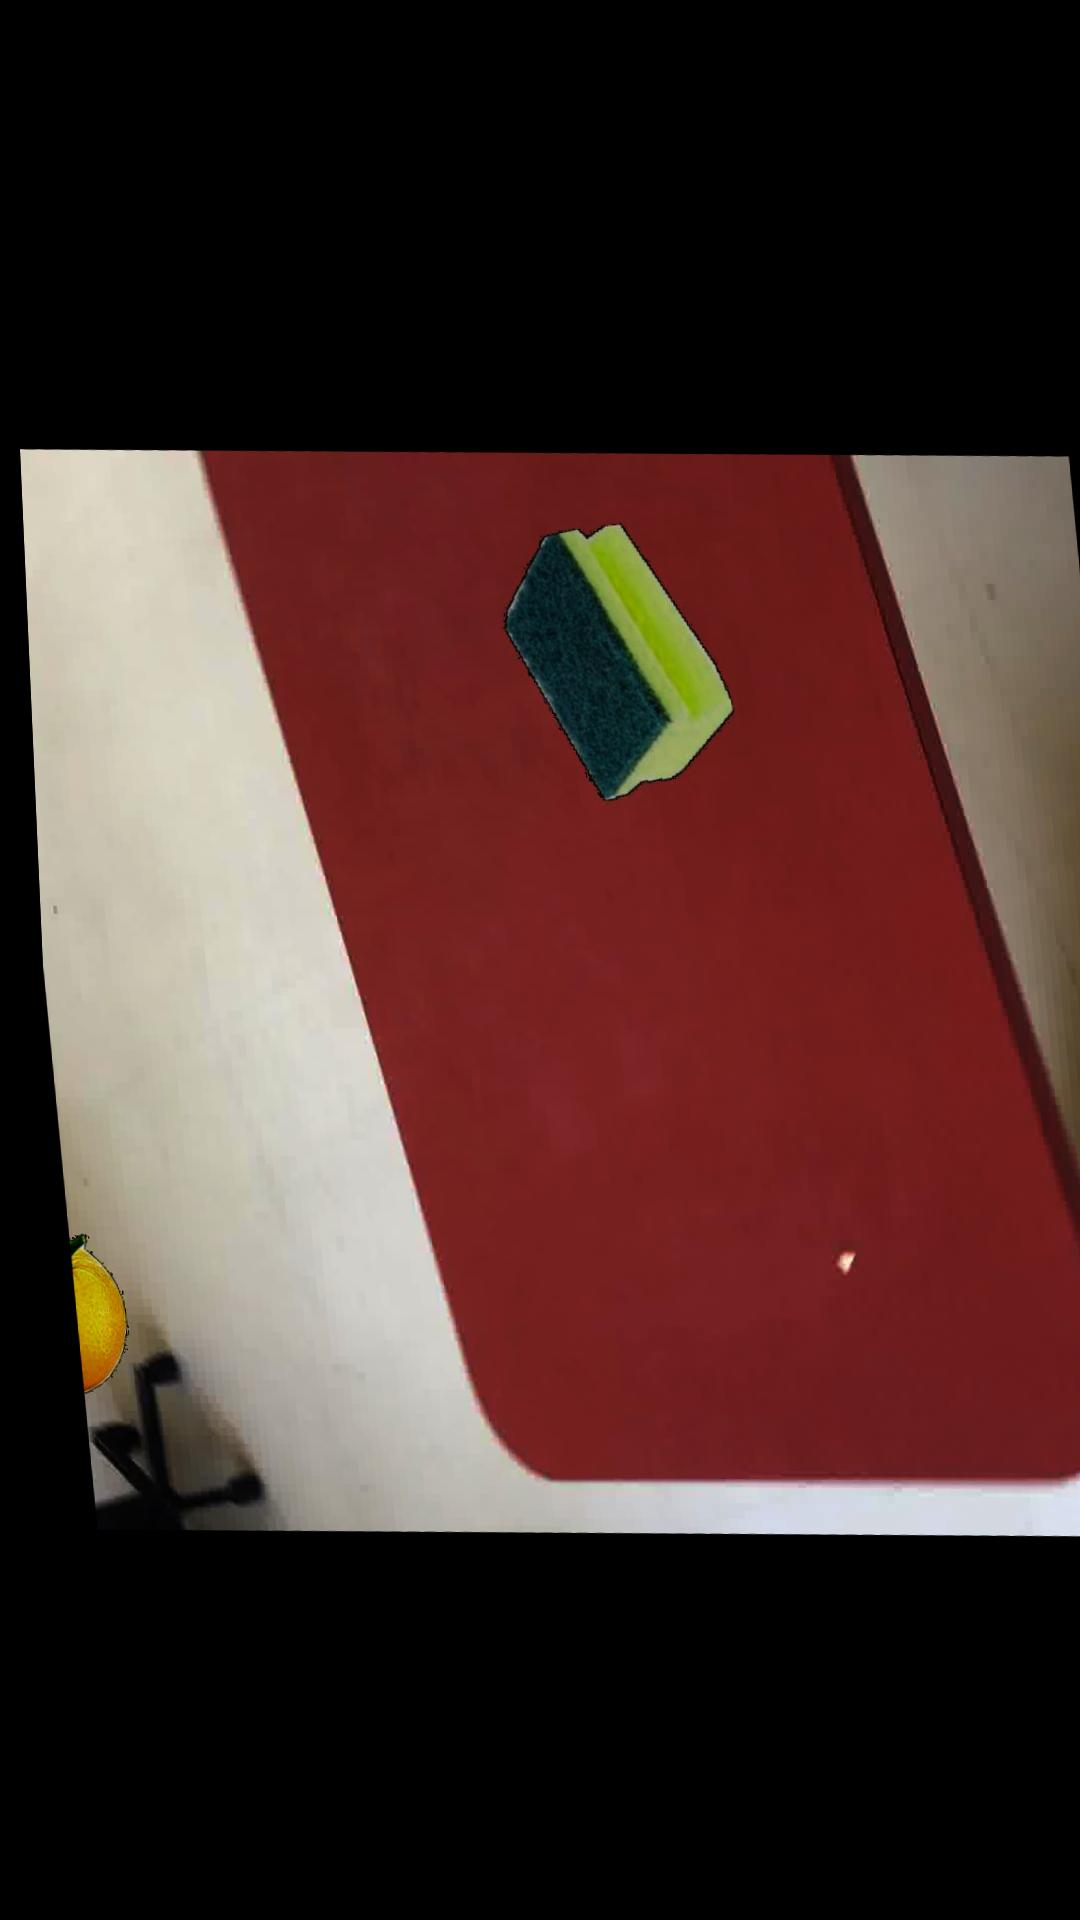orange: (57, 1230, 113, 1390)
sponge: (496, 513, 725, 790)
